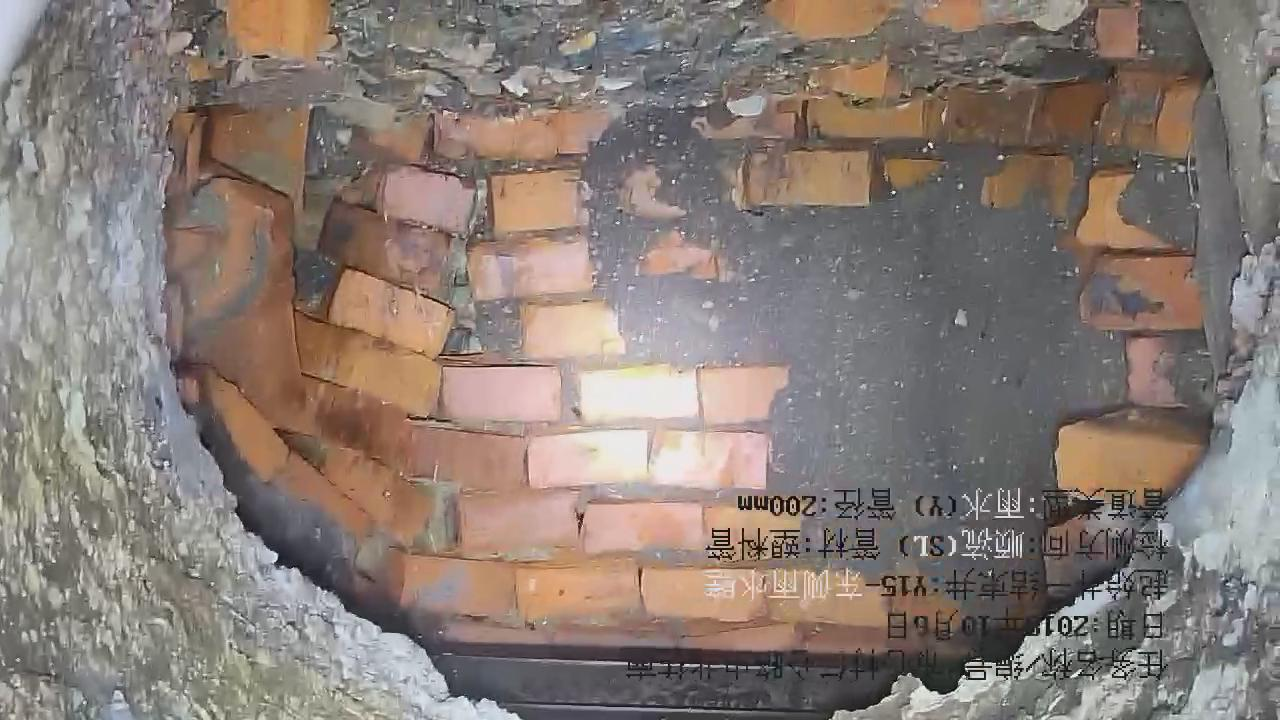CQBG: (166, 63, 1210, 720)
